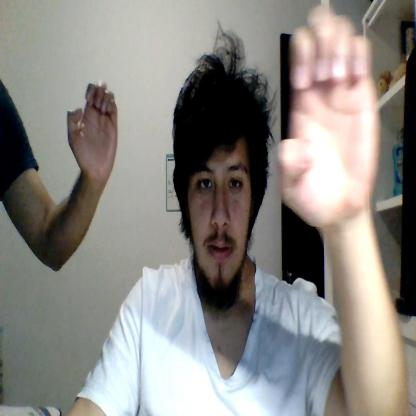E: (277, 6, 381, 227), (67, 81, 118, 182)
